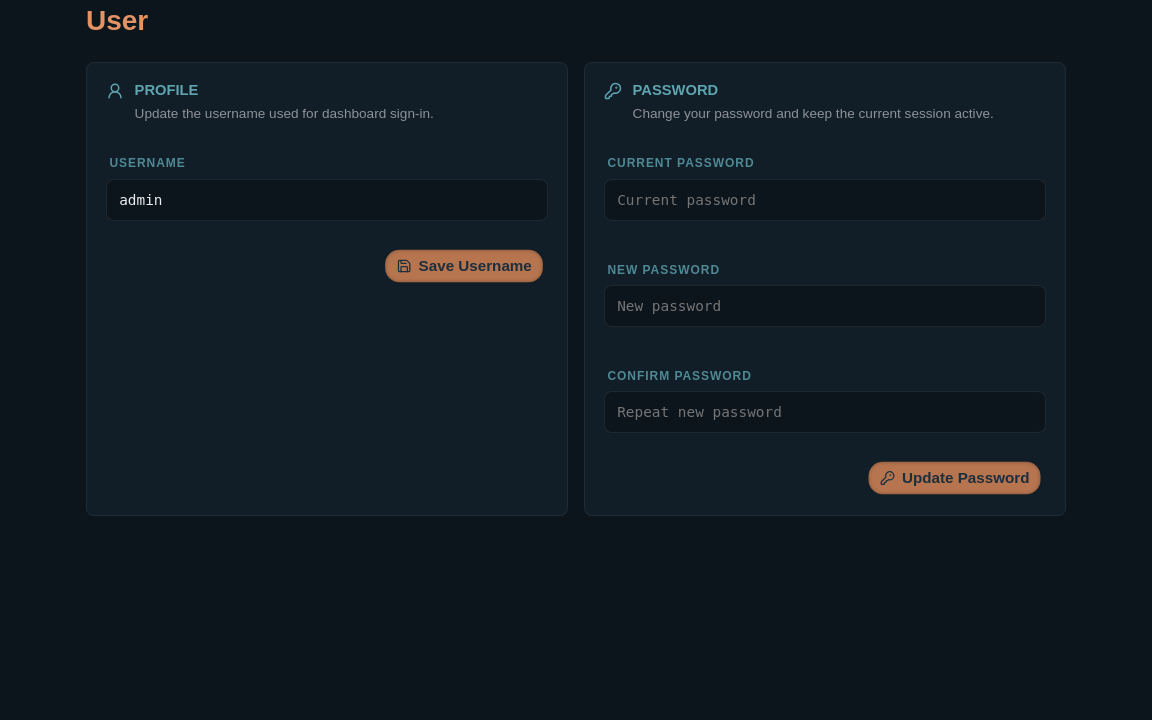
Scenario: user page › rejects mismatched password confirmation
Type "old-password" into the password field labelled "Current Password". click: x=825, y=200
box: [617,180,1033,220]
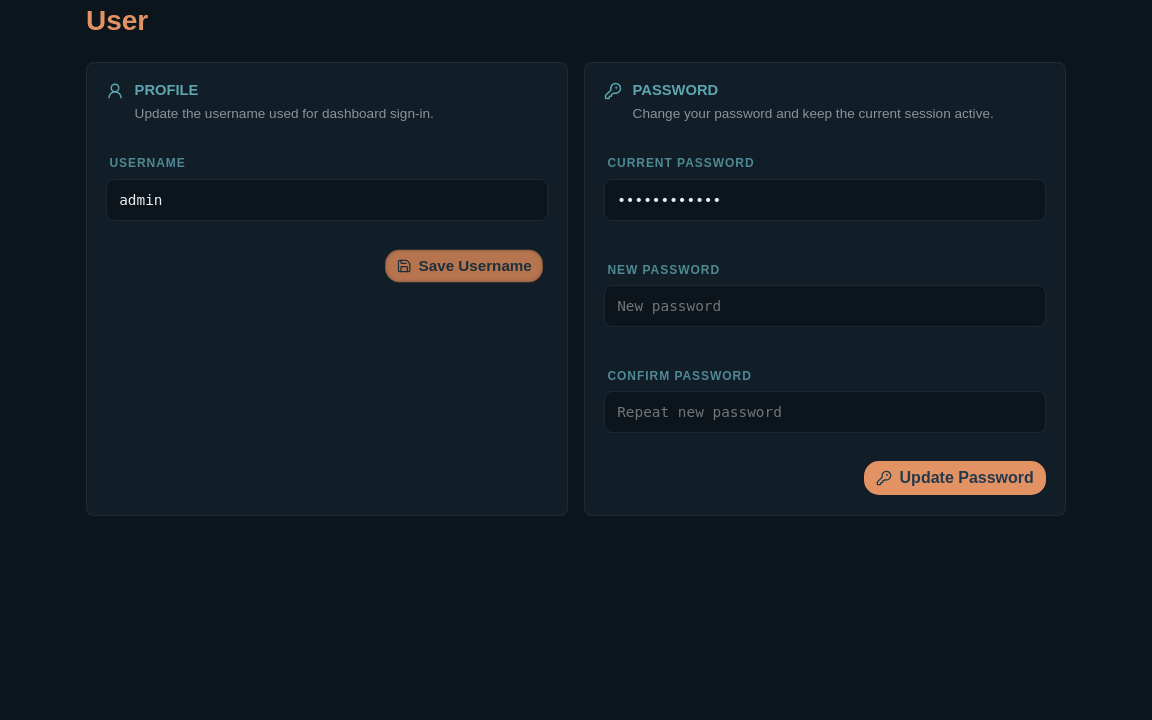
Type "new-password" into the password field labelled "New Password". click: x=825, y=306
box: [617,286,1033,326]
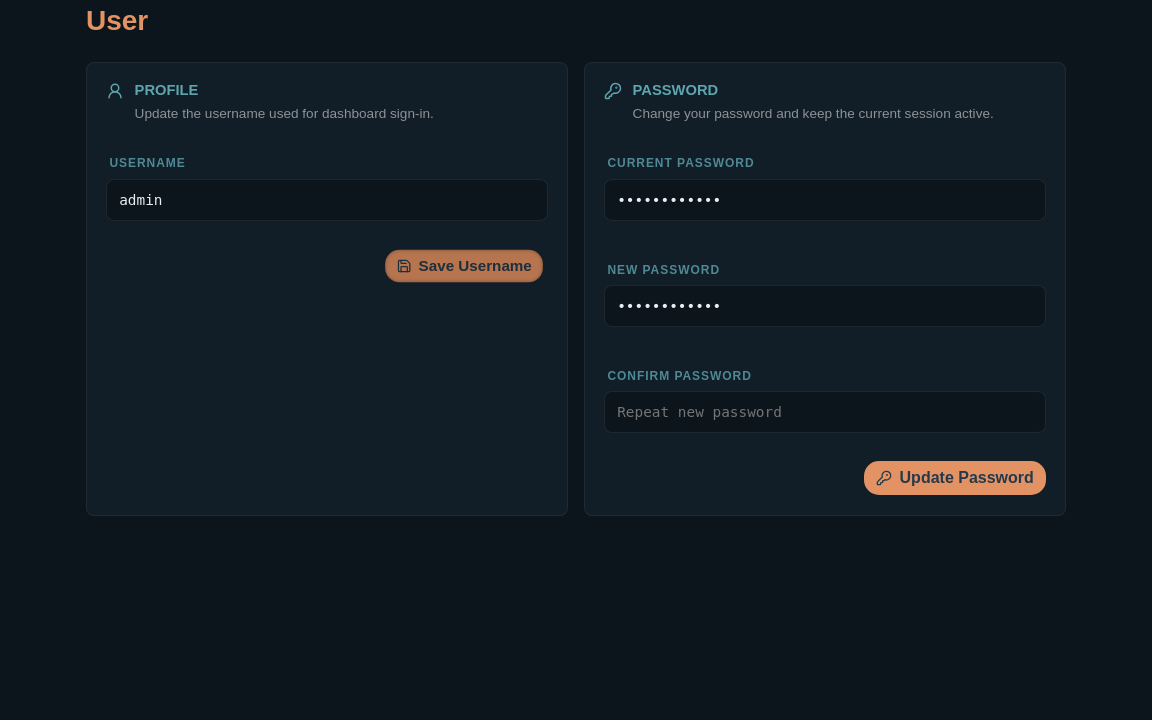
Type "different-password" into the password field labelled "Confirm Password". click: x=825, y=412
box: [617,392,1033,432]
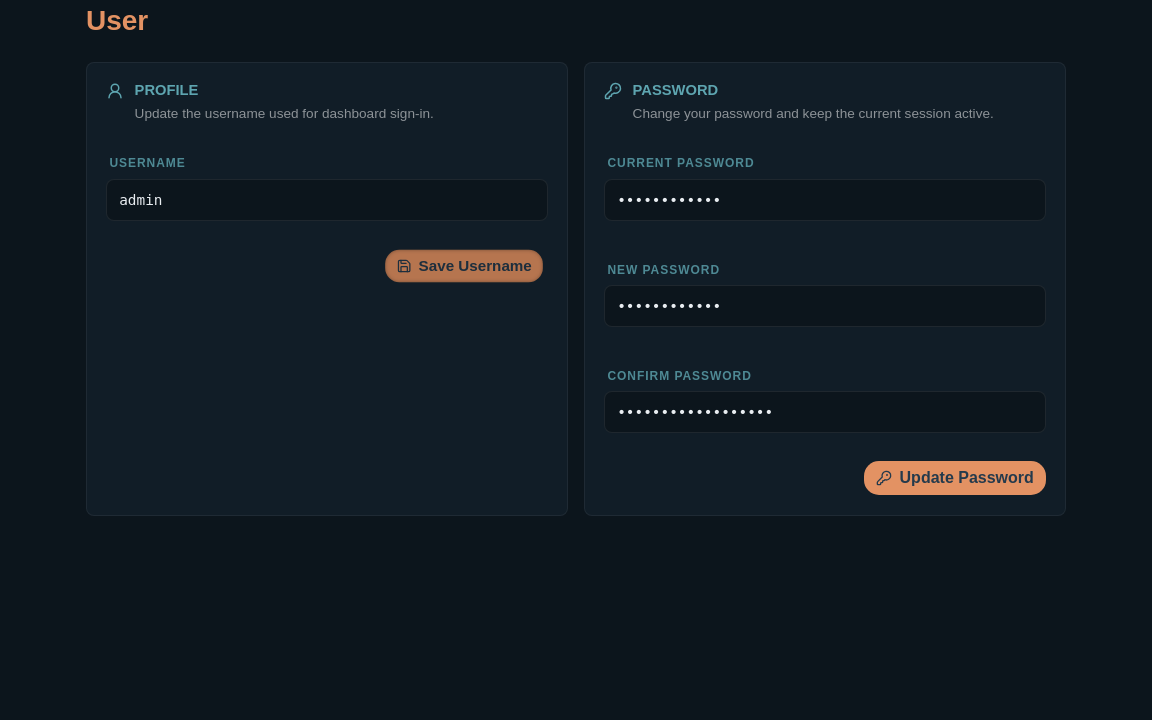
Click the button "Update Password". click: x=955, y=478
box: [864,461,1046,495]
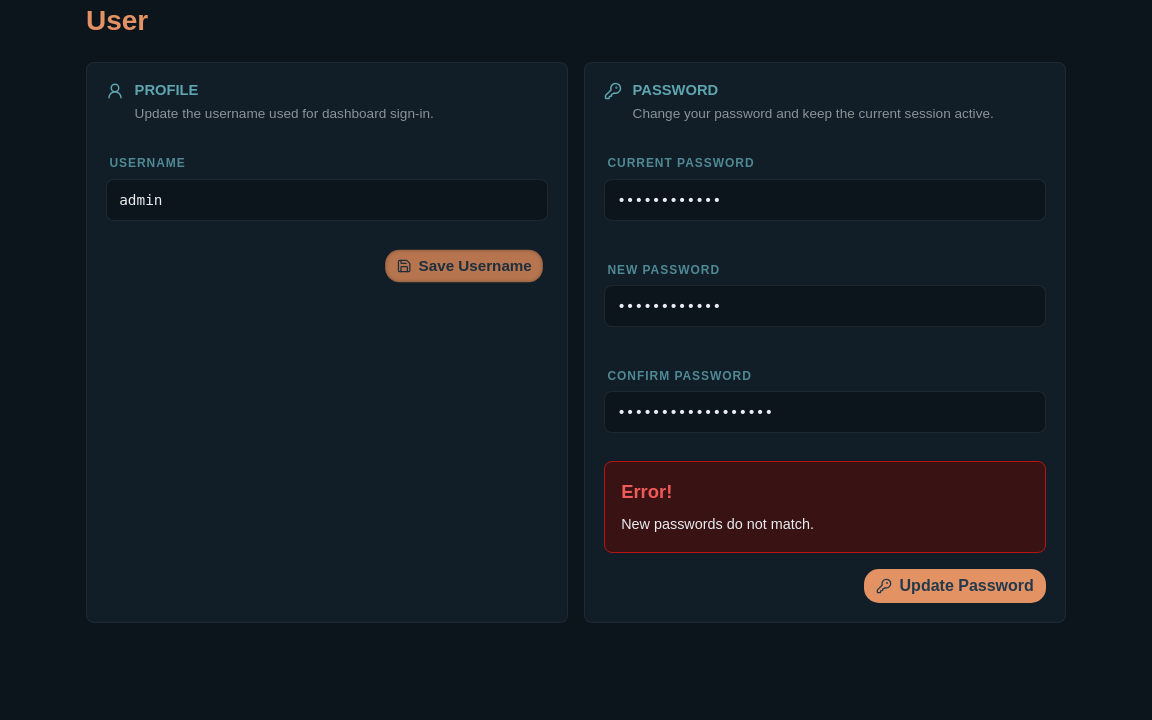
Result: the text "New passwords do not match." is shown at [621,516,814,532]
